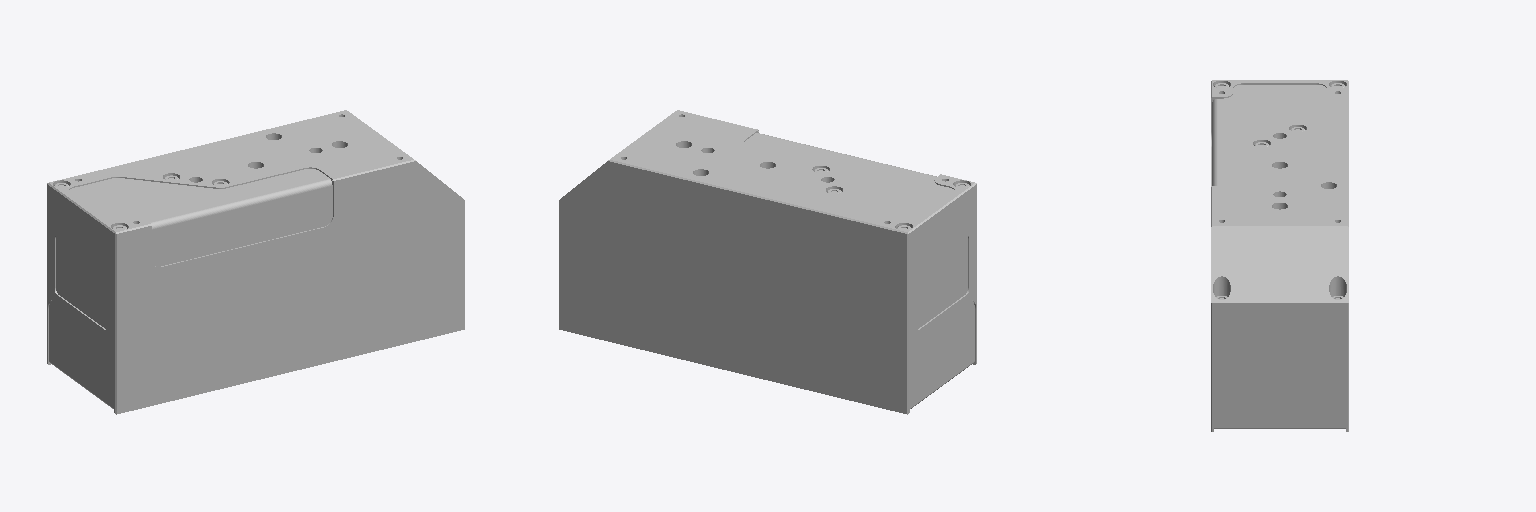
Rendered from wsg50_110 v1_wsg50_110 v1_1_1_Component8_1_Body1_Component8.obj.
3 renders of one model, left to right at view 1: azimuth 30°, elevation 25°; view 2: azimuth 150°, elevation 25°; view 3: azimuth 270°, elevation 25°, orthographic.
Parts seen in each view (by area): view 1: Body1; view 2: Body1; view 3: Body1.
Part boxes in pixels (x1,y1,x2,y2): Body1: (47,110,464,414); Body1: (559,110,976,414); Body1: (1211,80,1348,431).
Bounding box in the file's own units: 0.146 × 0.0725 × 0.05.